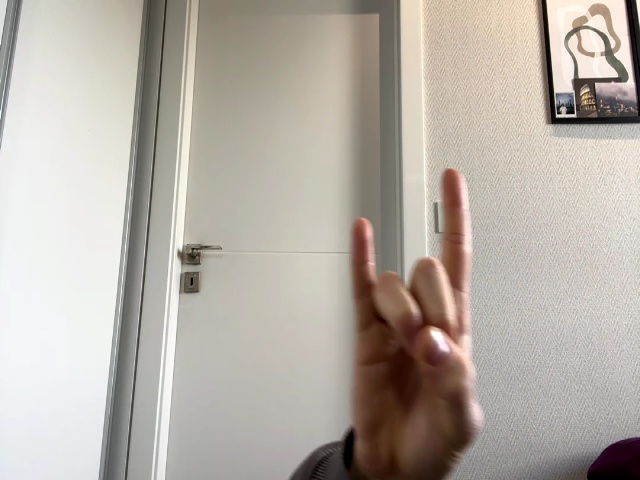Y: (352, 169, 484, 457)
